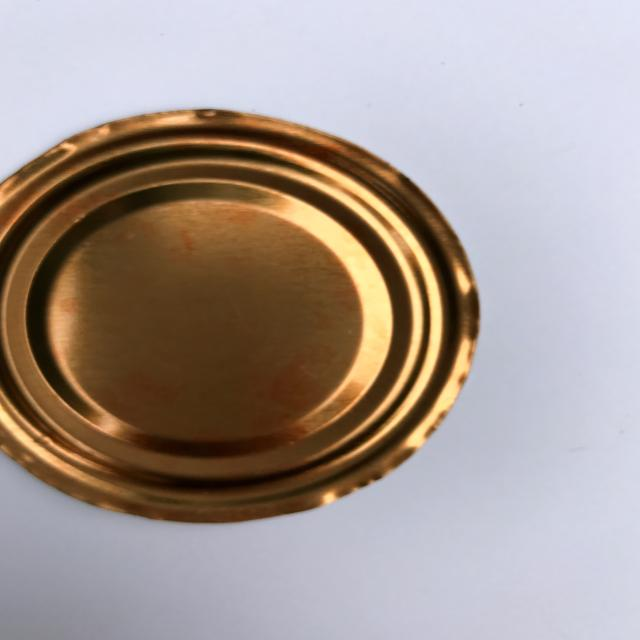metal: (0, 107, 481, 524)
